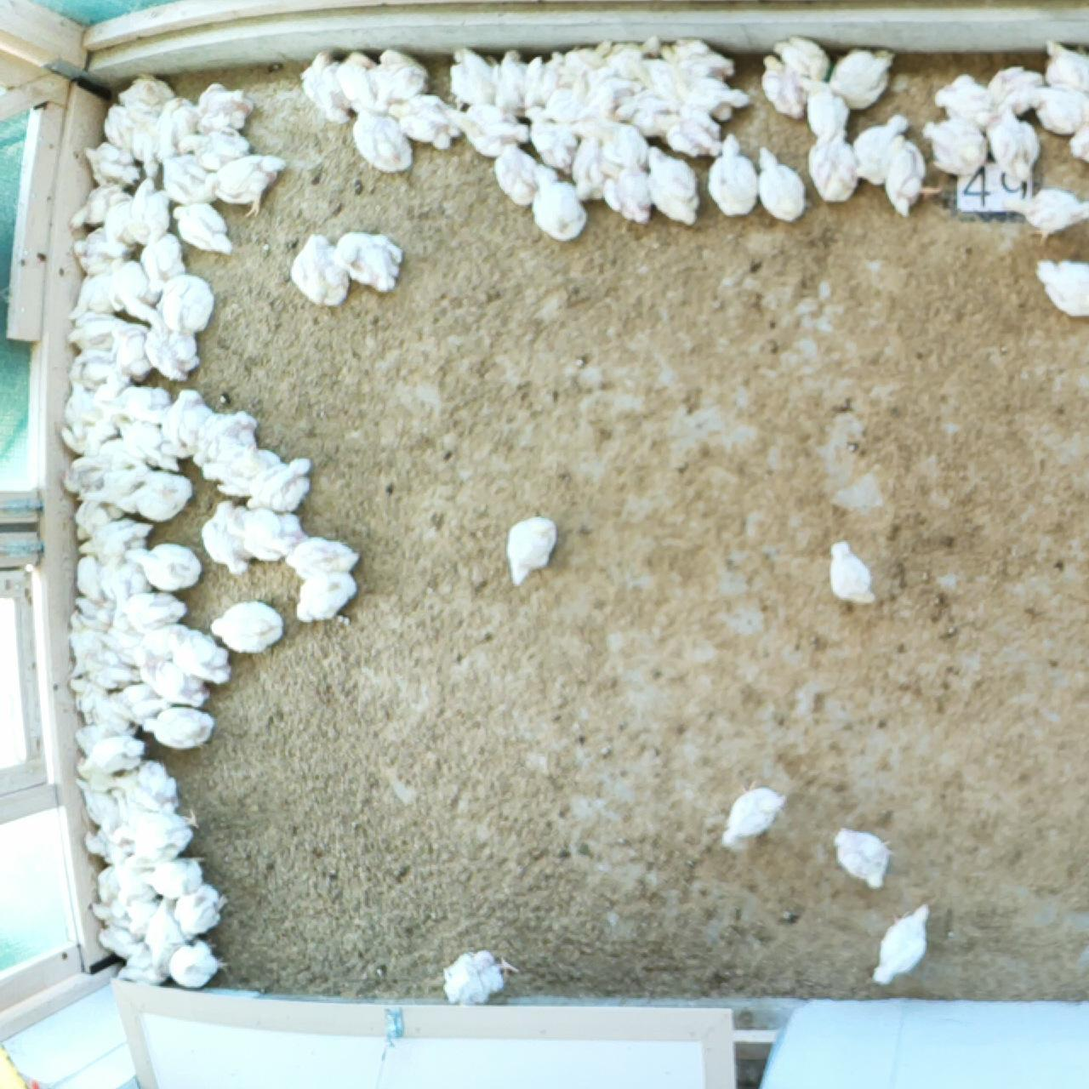chicken: (882, 135, 943, 217), (208, 154, 287, 215), (1005, 187, 1089, 244), (872, 903, 930, 984), (707, 134, 759, 216), (443, 950, 519, 1005), (291, 233, 349, 305), (452, 103, 529, 157), (533, 163, 586, 241), (389, 95, 465, 149), (114, 810, 200, 857), (235, 505, 305, 562), (647, 147, 698, 225), (853, 114, 909, 185), (335, 232, 402, 291), (723, 782, 784, 846), (830, 48, 894, 109), (76, 463, 152, 514), (299, 51, 351, 123), (987, 107, 1039, 179), (352, 111, 413, 172), (202, 448, 281, 495), (119, 471, 191, 522), (834, 828, 893, 890), (211, 602, 283, 652), (201, 500, 251, 572), (923, 119, 986, 176), (507, 516, 559, 585), (162, 389, 213, 459), (525, 107, 578, 174), (757, 146, 804, 221), (673, 76, 751, 121), (808, 129, 856, 202), (1022, 83, 1089, 135), (109, 760, 177, 811), (139, 659, 210, 707), (78, 517, 152, 563), (248, 457, 311, 511), (156, 275, 214, 333), (130, 544, 202, 590), (196, 411, 255, 467), (108, 259, 158, 325), (578, 78, 644, 128), (144, 897, 185, 977), (659, 37, 735, 80), (797, 76, 849, 138), (144, 706, 215, 751), (173, 629, 230, 685), (657, 105, 722, 154), (98, 384, 171, 427), (95, 689, 168, 732), (147, 322, 200, 381), (294, 575, 357, 624), (1035, 259, 1089, 316), (449, 47, 500, 107), (373, 50, 428, 105), (934, 74, 990, 128), (173, 202, 231, 254), (986, 66, 1044, 118), (286, 537, 359, 578), (195, 83, 253, 134), (604, 159, 650, 223), (169, 940, 229, 989), (77, 734, 145, 777), (173, 884, 228, 937), (99, 608, 146, 670), (161, 153, 216, 205), (140, 235, 185, 298), (830, 540, 875, 603), (179, 128, 248, 169), (762, 55, 807, 117), (615, 94, 677, 139), (71, 185, 131, 231), (129, 179, 170, 245), (573, 139, 618, 199), (543, 79, 610, 119), (67, 613, 108, 678), (73, 779, 118, 838), (495, 144, 537, 207), (594, 119, 648, 168), (83, 142, 138, 190), (73, 227, 128, 275), (123, 592, 187, 633), (773, 36, 830, 82), (339, 50, 377, 118), (522, 54, 566, 112), (68, 273, 123, 319), (600, 35, 660, 77), (67, 312, 127, 353), (140, 859, 203, 898), (157, 97, 197, 158), (113, 861, 157, 916), (112, 323, 152, 383), (96, 440, 148, 486), (491, 48, 527, 114), (94, 201, 135, 257), (117, 75, 175, 114), (69, 351, 130, 388), (84, 649, 141, 688), (1044, 39, 1089, 88), (117, 944, 168, 987), (64, 384, 101, 442), (139, 624, 200, 659), (99, 560, 151, 601), (62, 453, 111, 496), (562, 39, 611, 82), (641, 59, 687, 104), (74, 723, 136, 755), (75, 558, 111, 613), (76, 499, 123, 541), (128, 113, 158, 178), (103, 104, 134, 164), (69, 678, 108, 725), (92, 864, 121, 925), (98, 925, 146, 961), (85, 828, 128, 863), (1069, 114, 1089, 162)
